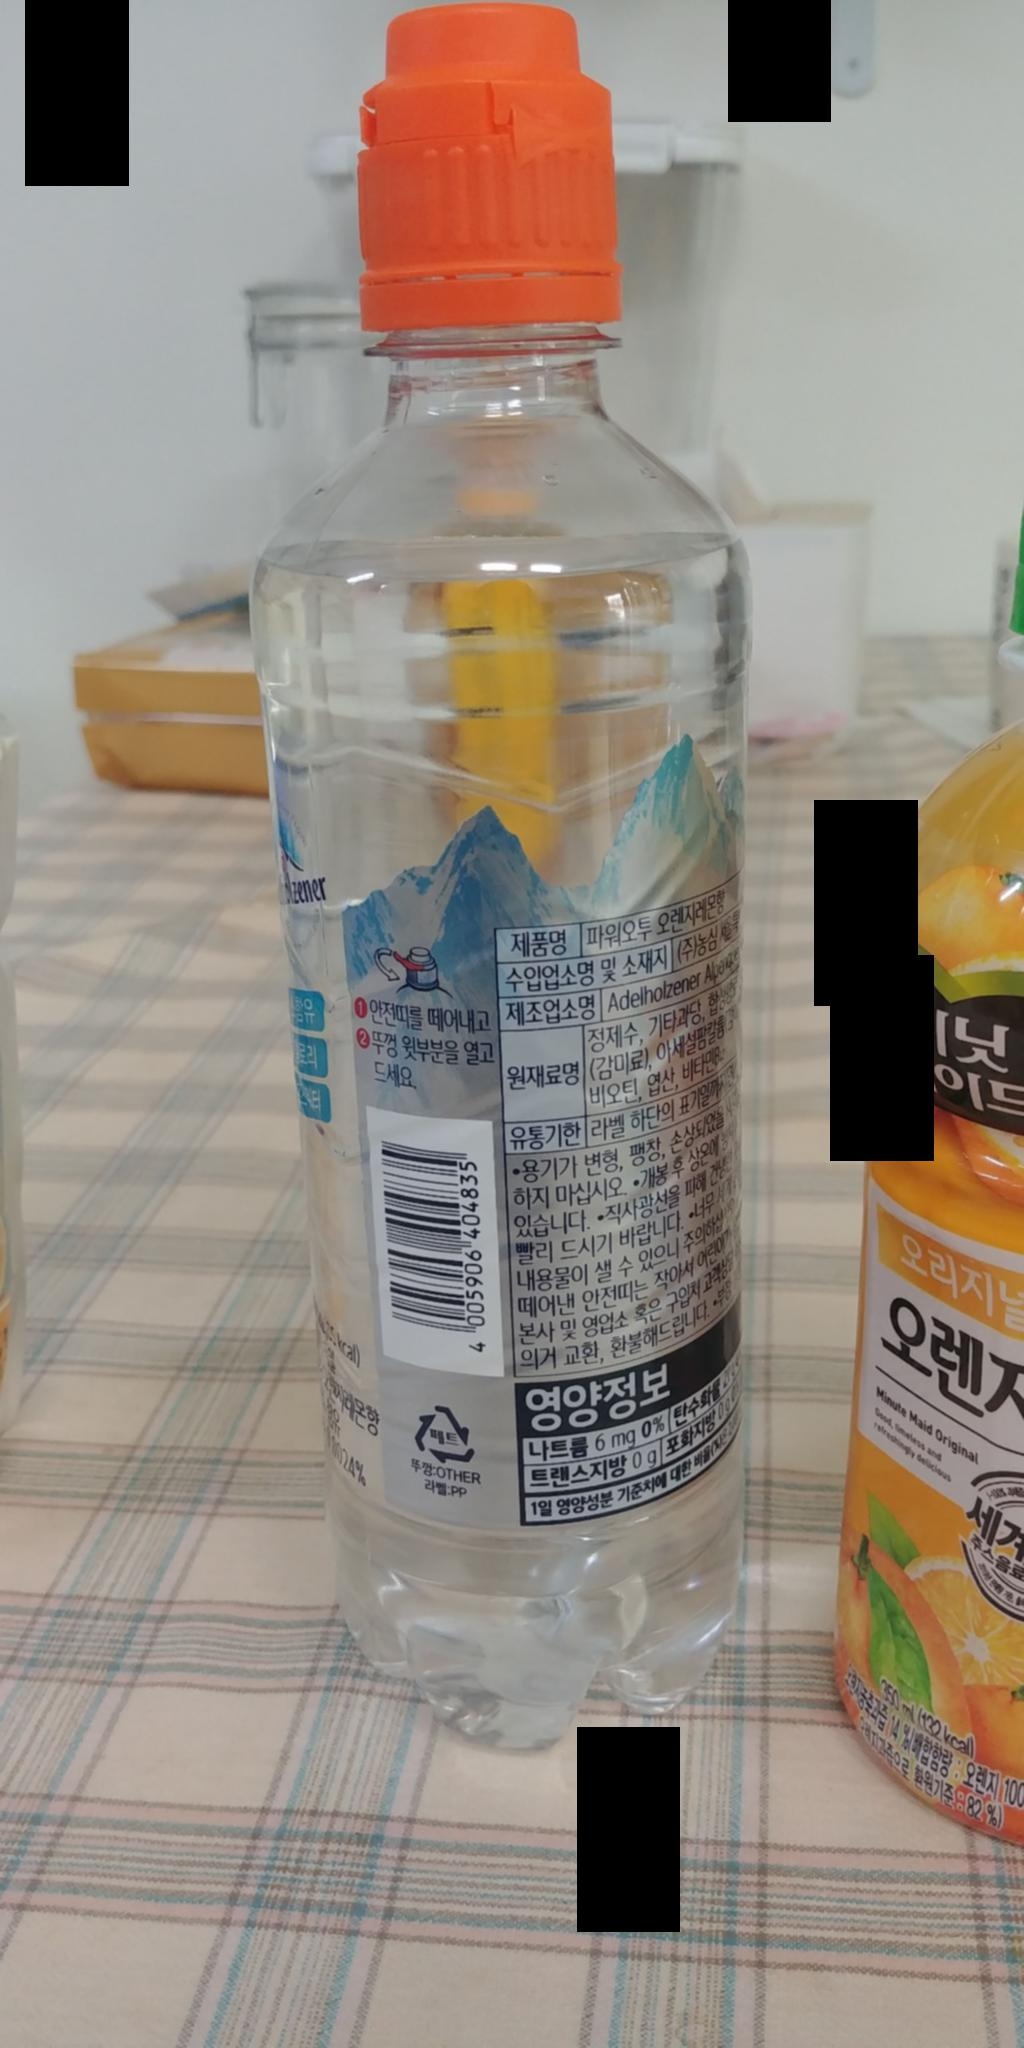minutemaid_org_orange: (831, 504, 1024, 1849)
powerO2_orange: (232, 0, 782, 1774)
